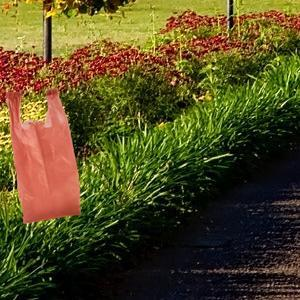plastic_bag: (4, 86, 84, 225)
